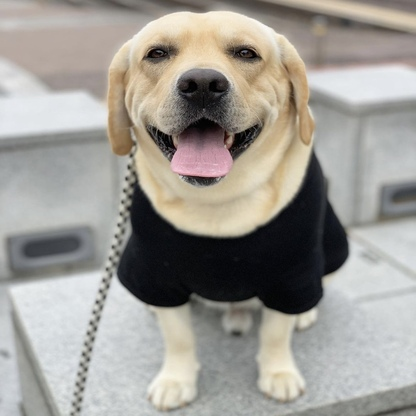labrado: (100, 6, 349, 411)
